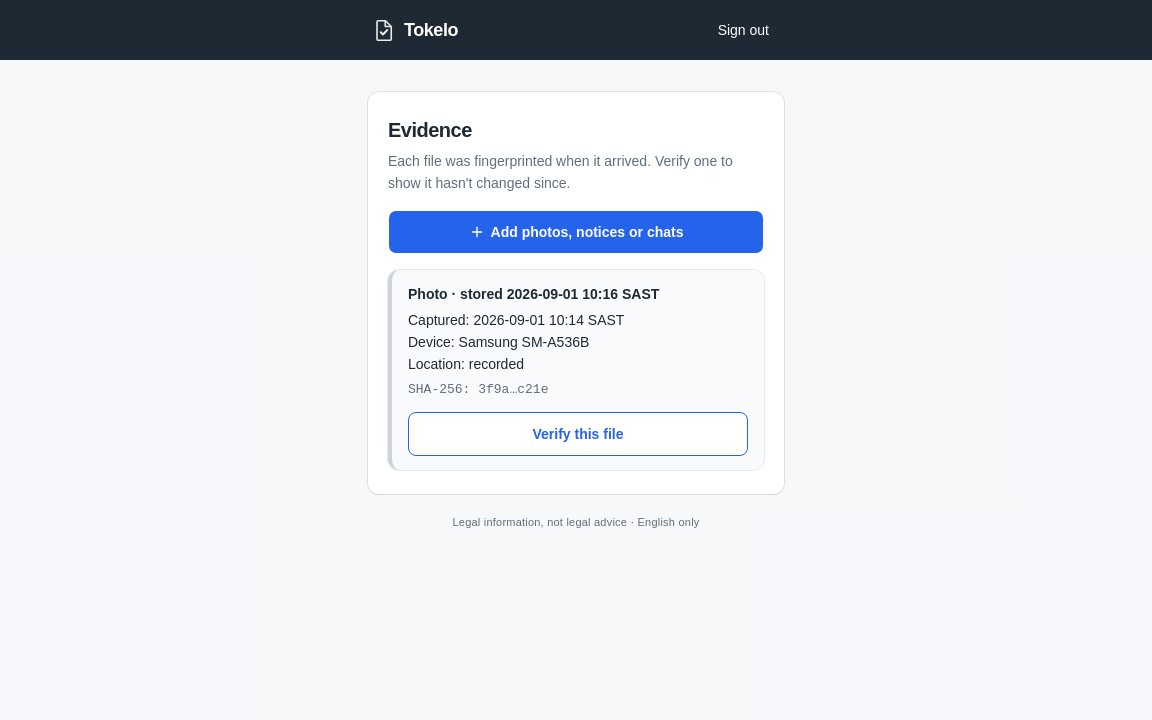
it: [REQ-010] verifying a file › asks the API to hash the stored file again, and says when it's unchanged
Step 1. Click the button "Verify this file" → (578, 434), box [408,412,748,456]
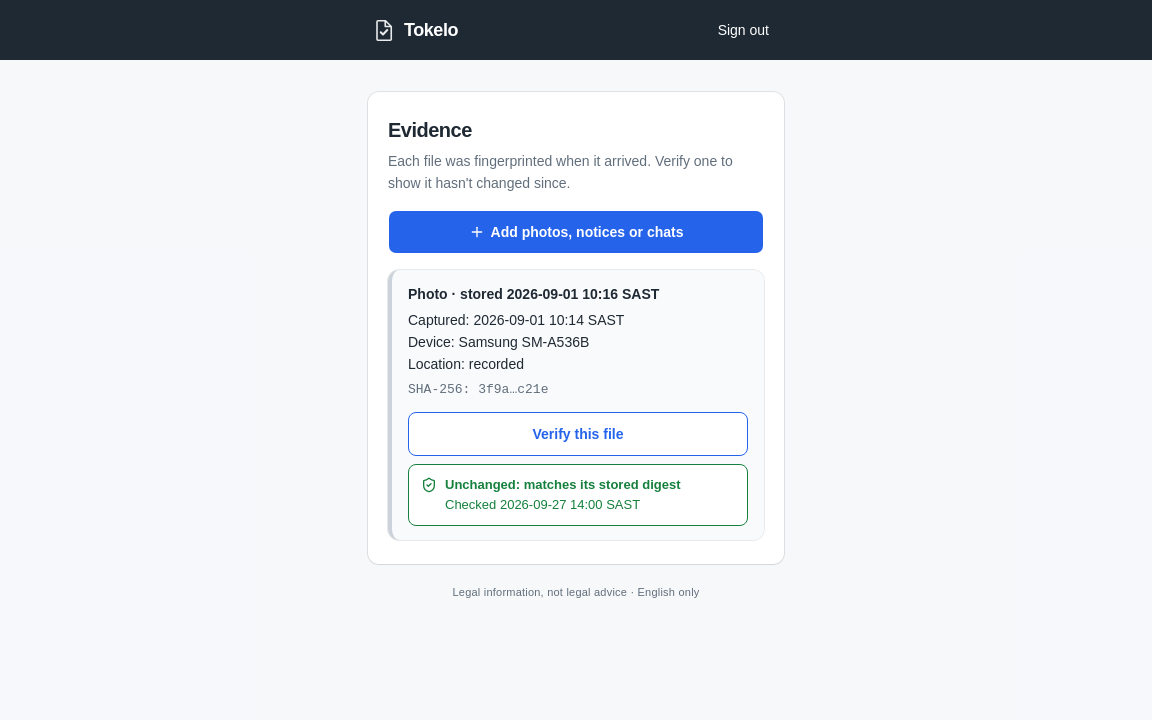
Expected: the text "Unchanged: matches its stored digest" is shown, [445,475,680,495]
Expected: the text "Checked 2026-09-27 14:00 SAST" is shown, [445,497,640,512]
